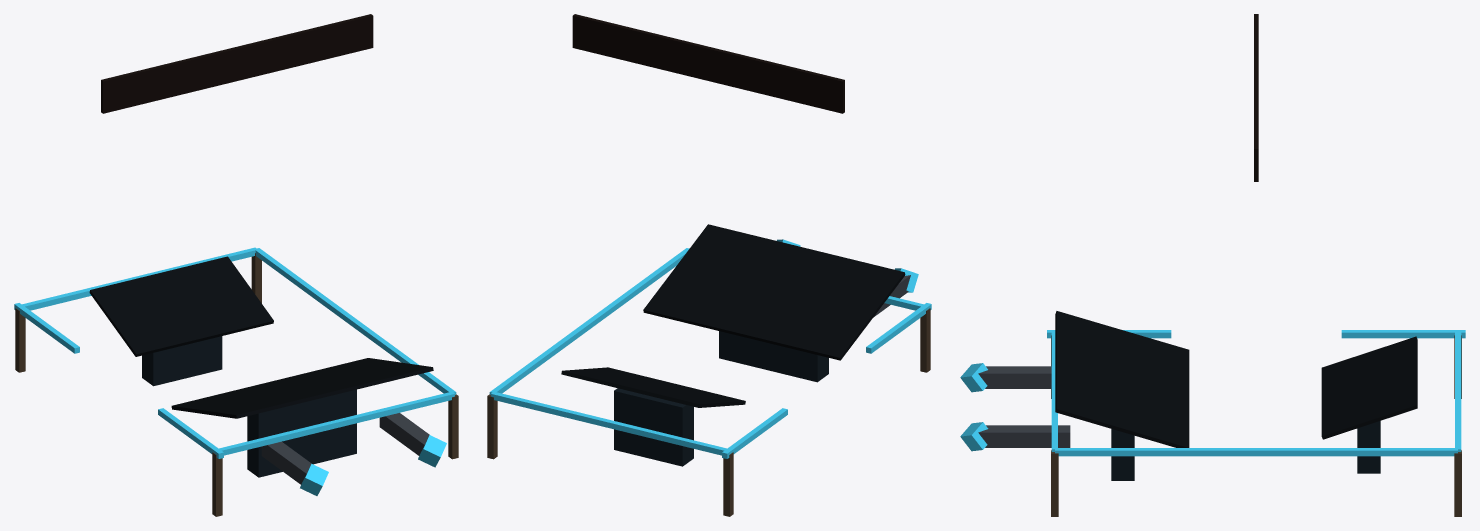
File: skyfleet_bake_18.glb
The picture shows the model from 3 angles, left to right: view 1: azimuth 30°, elevation 25°; view 2: azimuth 150°, elevation 25°; view 3: azimuth 270°, elevation 25°; orthographic projection. The views are drawn at different scales.
Parts seen in each view (by area): view 1: baked; view 2: baked; view 3: baked.
Part boxes in pixels (x1,y1,x2,y2): baked: (14,14,458,516); baked: (487,14,931,516); baked: (960,14,1465,516).
Size of the model in its own units: 4.12 by 5.34 by 6.52.
